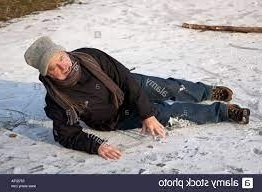fall: (17, 36, 253, 165)
